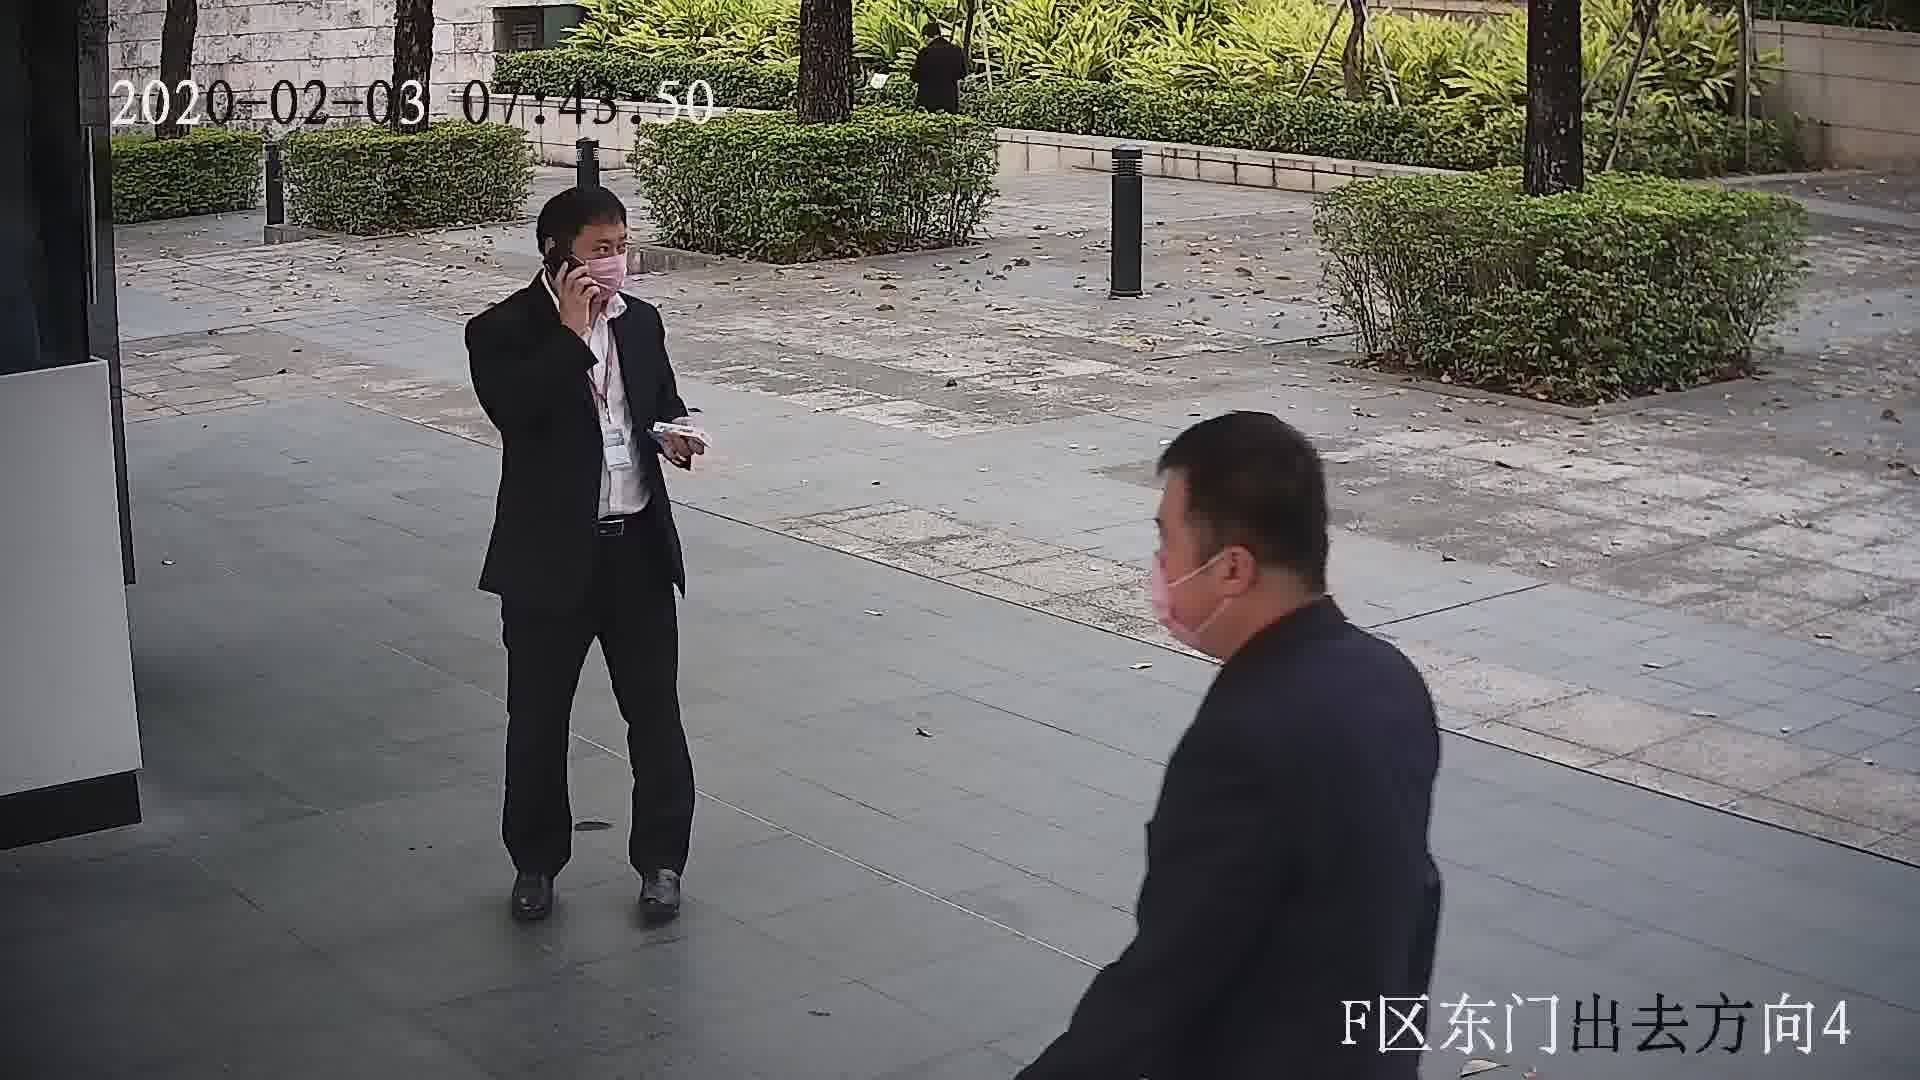face: (1147, 462, 1240, 645), (560, 219, 637, 295)
mask: (575, 251, 630, 303)
person: (1116, 401, 1412, 786), (465, 187, 675, 361), (909, 22, 966, 62)
